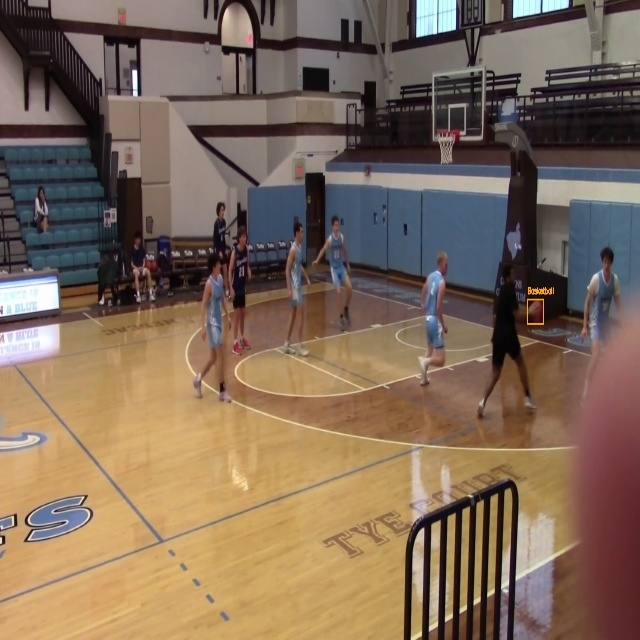Basketball: (528, 300, 543, 324)
